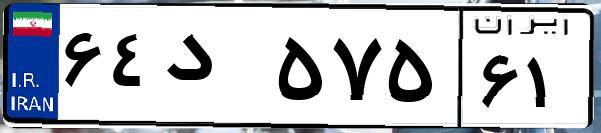1: (525, 38, 570, 115)
4: (110, 28, 158, 98)
5: (270, 28, 330, 110), (385, 28, 445, 110)
6: (57, 26, 110, 100), (475, 38, 525, 113)
7: (330, 28, 385, 110)
د: (158, 20, 270, 120)
